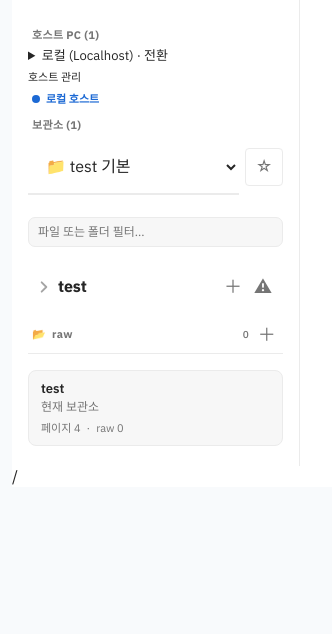
Test: 사이드바 초안 표시 › draft 문서 행에 점, 그룹 행에 하위 draft 개수를 붙인다
This screenshot has width=332, height=634.
Click the 1st text "test" at (72, 286), box [58,276,87,296]
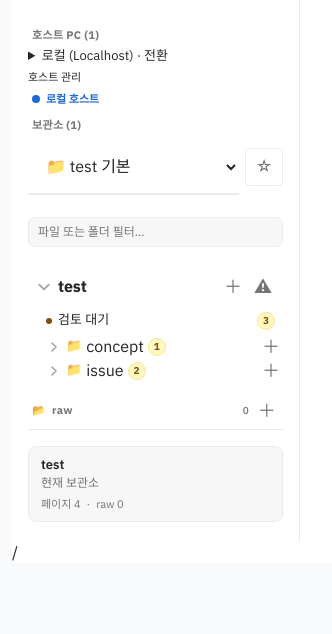
Expected: the picture named "초안 2개" is shown, [128,362,146,380]
Click the button named "초안 1개" at (144, 347), box [28,336,259,357]
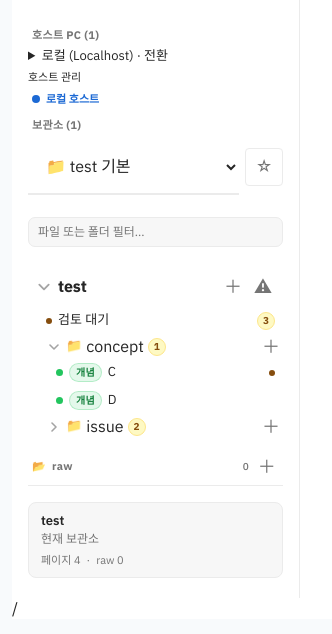
Expected: the number of pictures named "검토 대기" is 1, [269,370,275,376]
